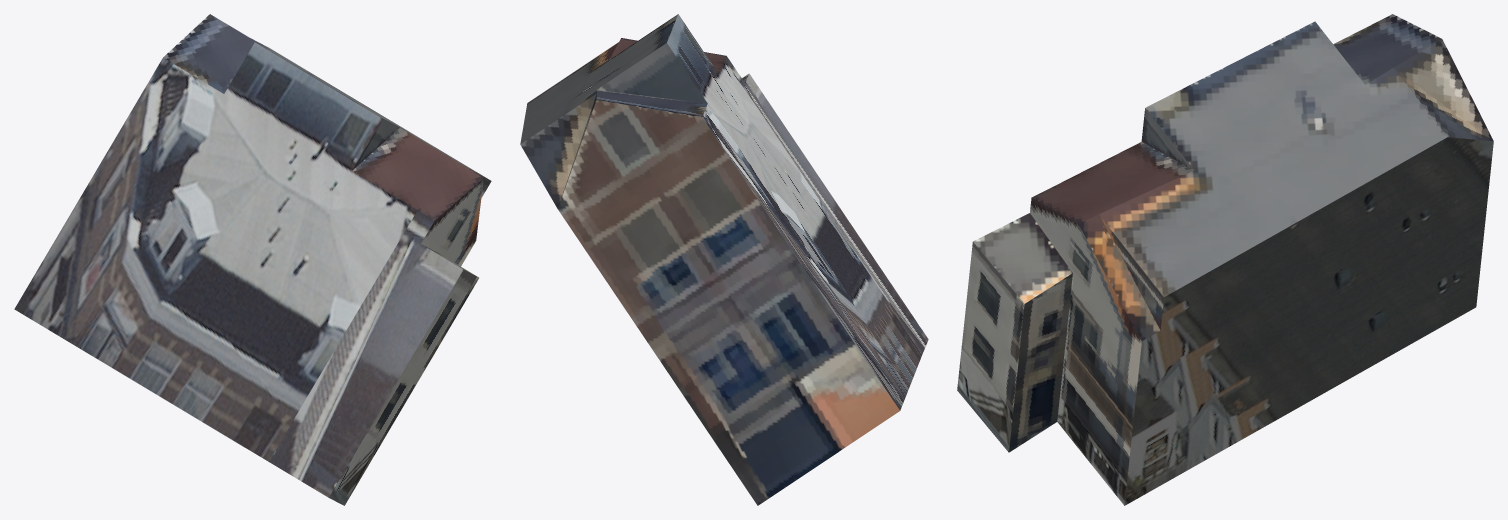
3 views of the same model, side by side, from view 1: azimuth 30°, elevation 25°; view 2: azimuth 150°, elevation 25°; view 3: azimuth 270°, elevation 25° (orthographic). The views are drawn at different scales.
Parts seen in each view (by area): view 1: BAG_0599100000650085 (×4); view 2: BAG_0599100000650085 (×3); view 3: BAG_0599100000650085 (×5).
Part boxes in pixels (x1,y1,x2,y2): BAG_0599100000650085 (×4): (14,14,491,505); BAG_0599100000650085 (×3): (520,14,928,505); BAG_0599100000650085 (×5): (957,14,1493,505).
Bounding box in the file's own units: 14.78 × 14.18 × 14.15.
Materials: 1 (1 with a texture image).
